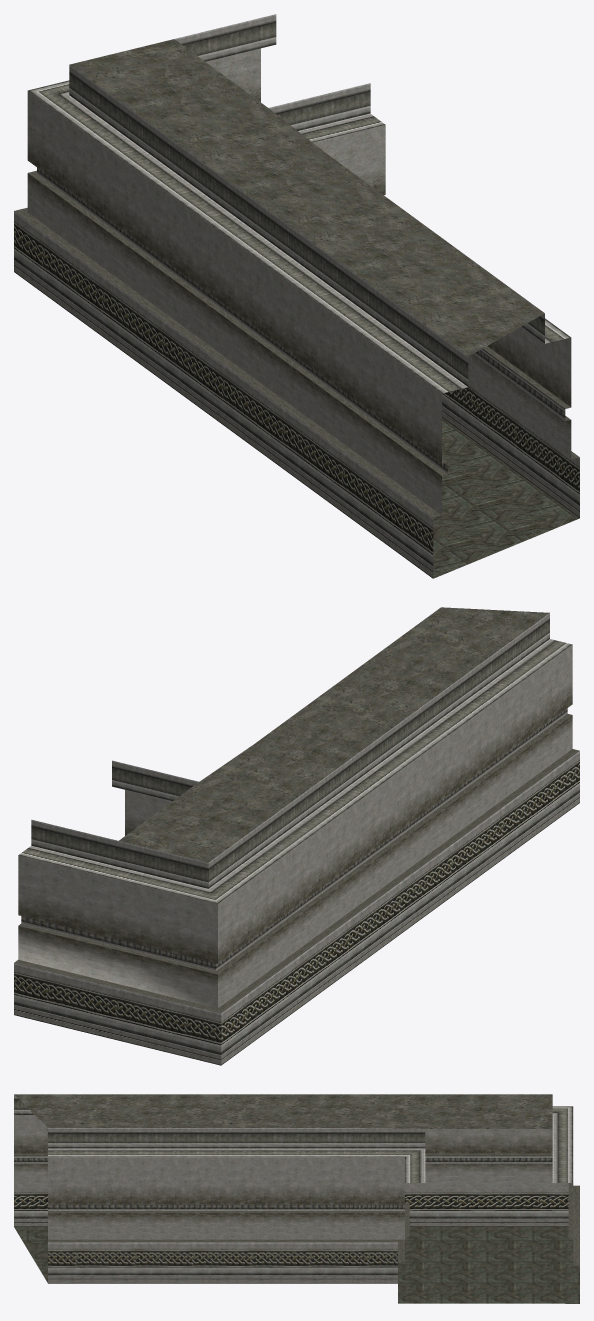
The model's file is DWARF_PALACE_FORGE_HALLWAY02A.fbx.
The picture shows the model from 3 angles, top to bottom: view 1: azimuth 30°, elevation 25°; view 2: azimuth 150°, elevation 25°; view 3: azimuth 270°, elevation 25°; orthographic projection. The views are drawn at different scales.
Parts seen in each view (by area): view 1: DWARF_PALACE_FORGE_HALLWAY02A; view 2: DWARF_PALACE_FORGE_HALLWAY02A; view 3: DWARF_PALACE_FORGE_HALLWAY02A.
Part boxes in pixels (left/top/right/bottom): DWARF_PALACE_FORGE_HALLWAY02A: left=14, top=14, right=579, bottom=578; DWARF_PALACE_FORGE_HALLWAY02A: left=14, top=607, right=579, bottom=1065; DWARF_PALACE_FORGE_HALLWAY02A: left=14, top=1094, right=579, bottom=1303.
Bounding box in the file's own units: 83004 × 70000 × 249000.
Materials: 7 (7 with a texture image).
